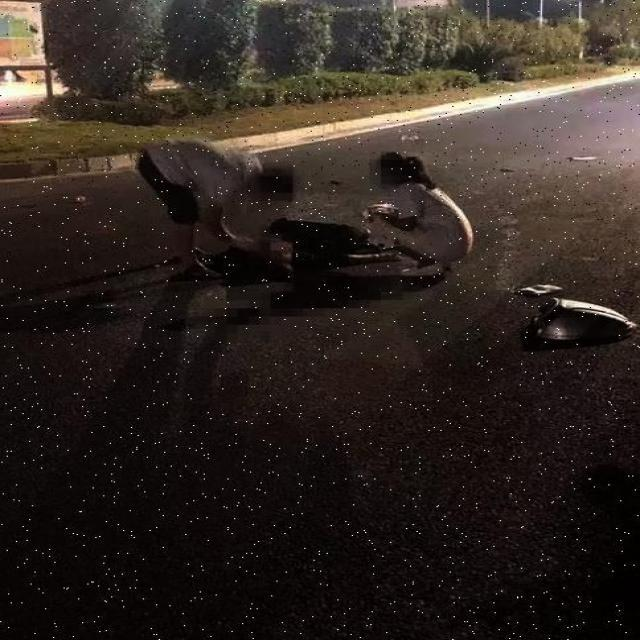fall: (226, 220, 380, 265)
